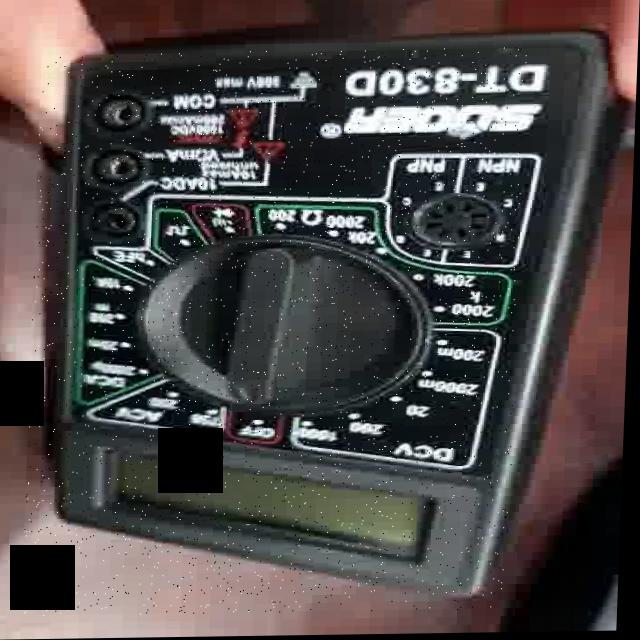multimeter: (26, 49, 528, 617)
